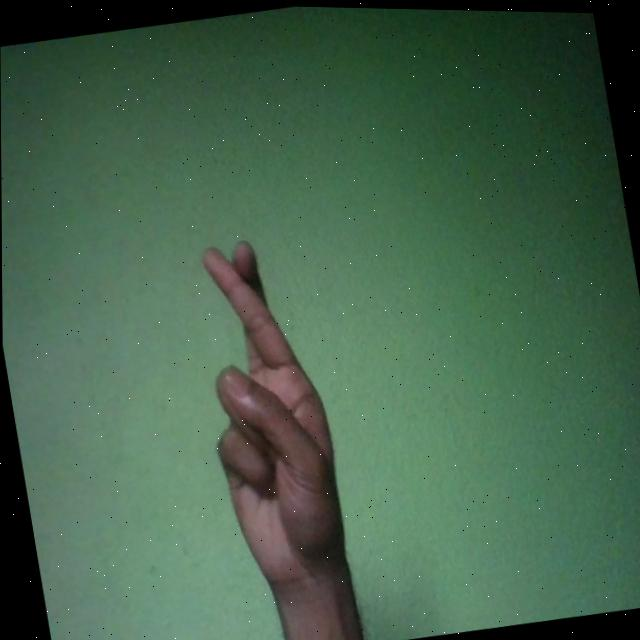Good Luck: (183, 228, 354, 601)
